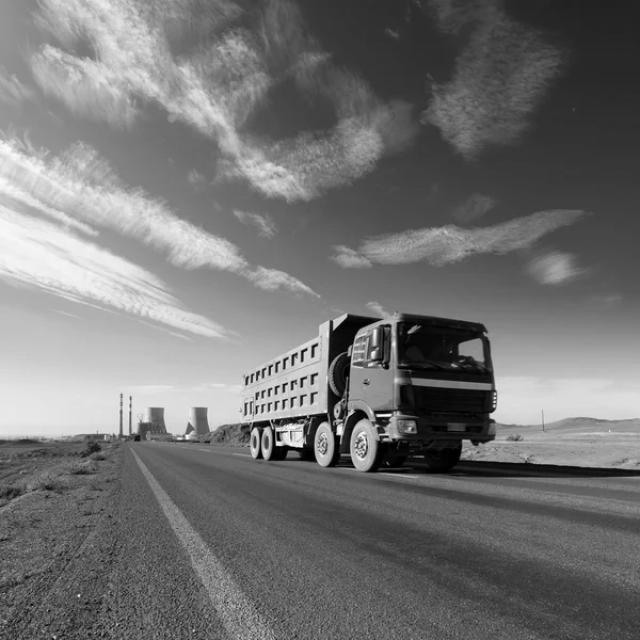Truck: (241, 314, 497, 472)
